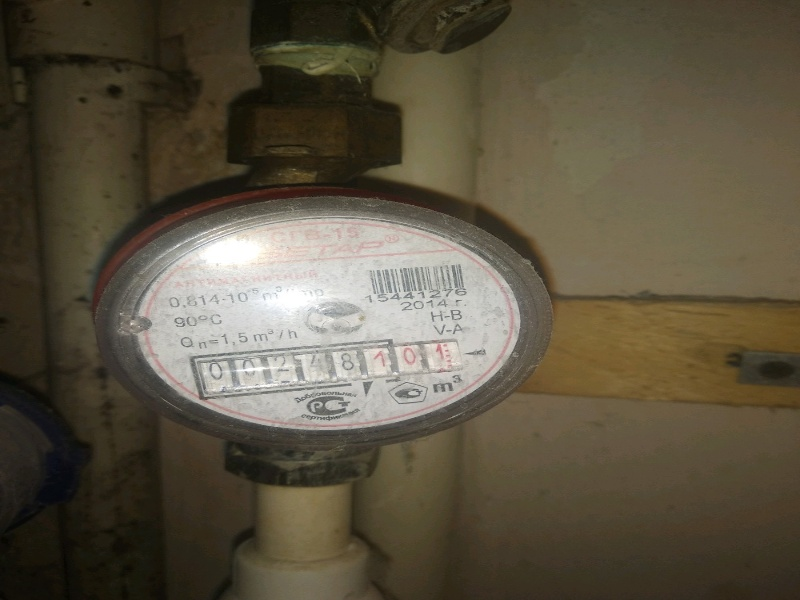dial: (186, 347, 468, 378)
